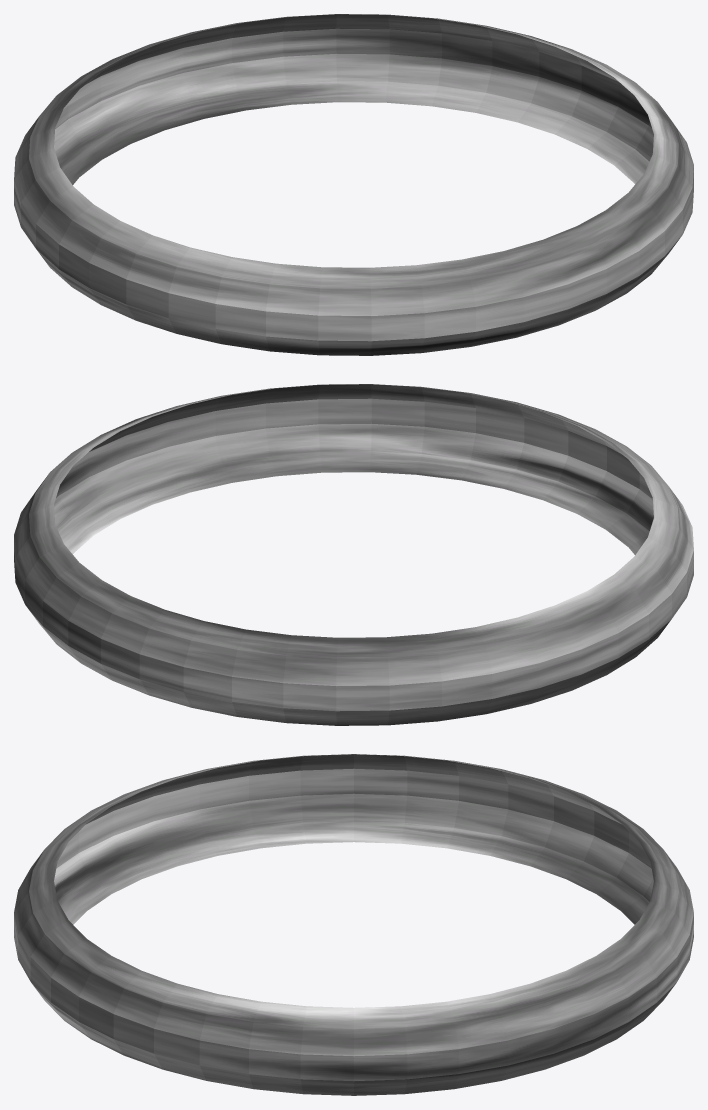
File: SmokeRing.fbx
The picture shows the model from 3 angles, top to bottom: view 1: azimuth 30°, elevation 25°; view 2: azimuth 150°, elevation 25°; view 3: azimuth 270°, elevation 25°; orthographic projection.
Parts seen in each view (by area): view 1: SM_EFF_Ring_14.mo; view 2: SM_EFF_Ring_14.mo; view 3: SM_EFF_Ring_14.mo.
Boxes of the visible parts, x1=… form: SM_EFF_Ring_14.mo: x1=14, y1=14, x2=693, y2=355; SM_EFF_Ring_14.mo: x1=14, y1=384, x2=693, y2=725; SM_EFF_Ring_14.mo: x1=14, y1=754, x2=693, y2=1095.
Size of the model in its own units: 94.45 by 13.46 by 94.45.
